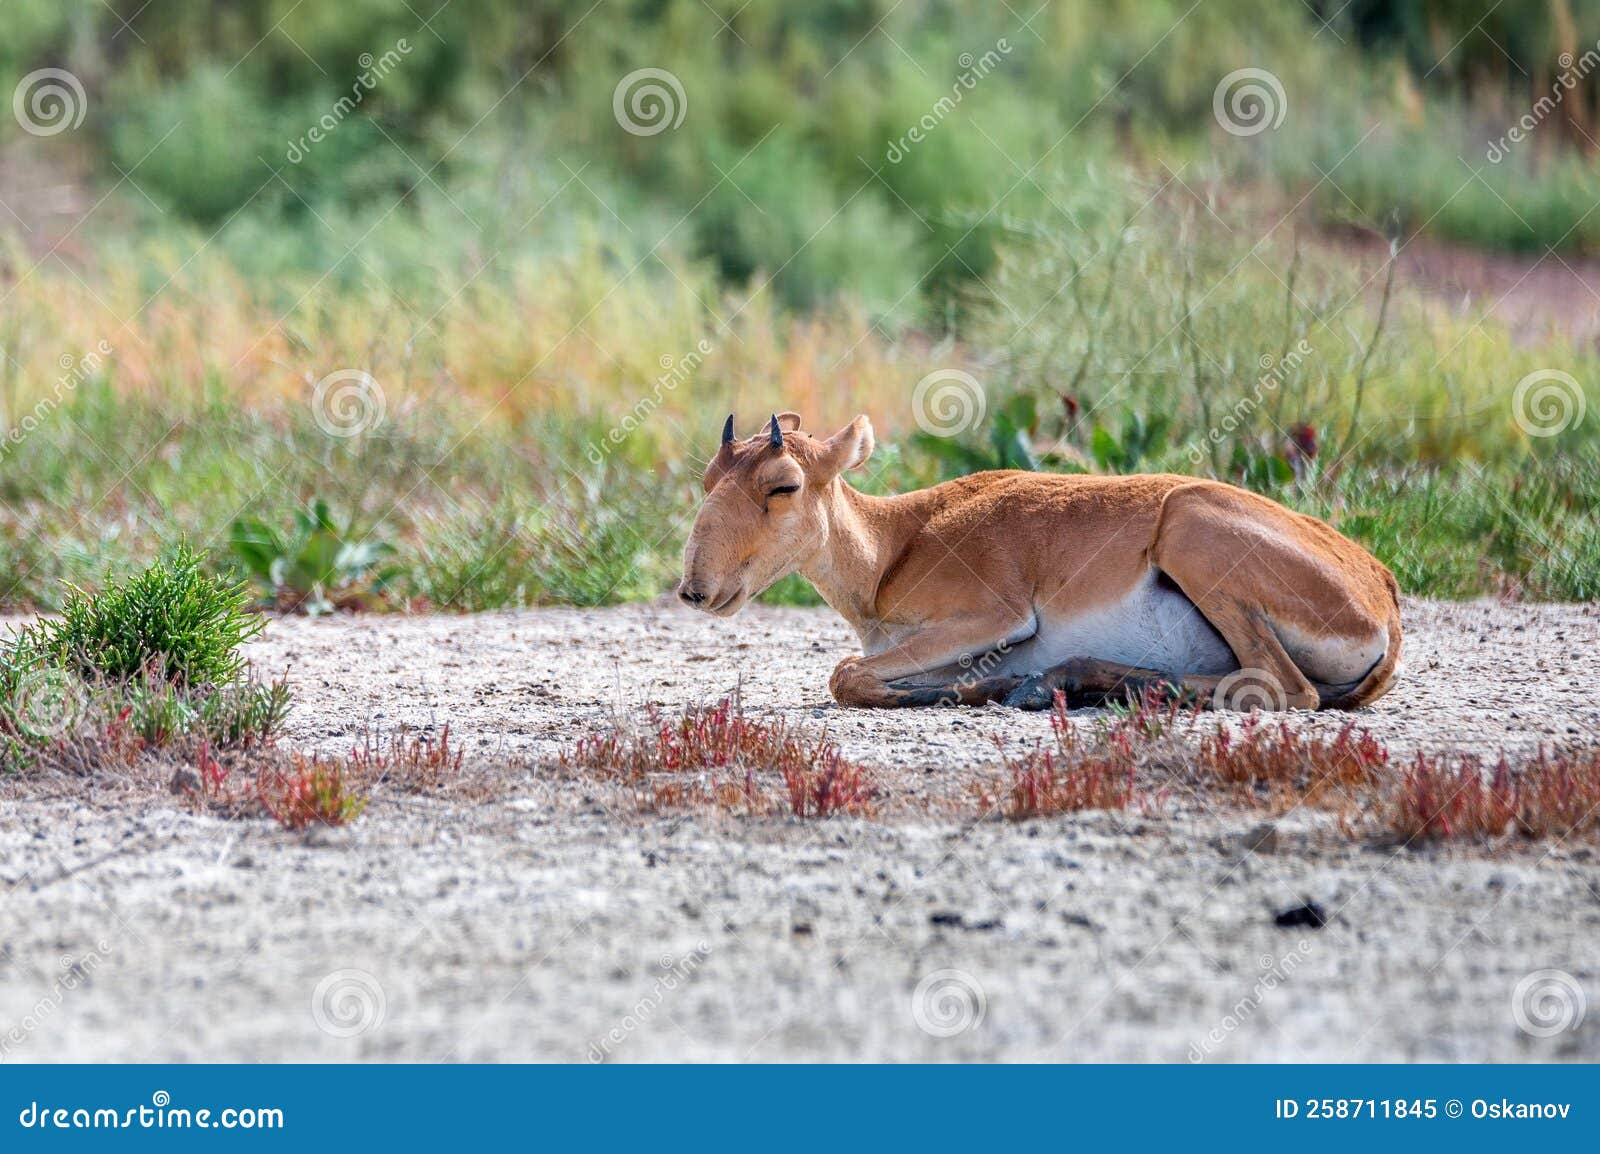saiga: (662, 395, 1420, 745)
